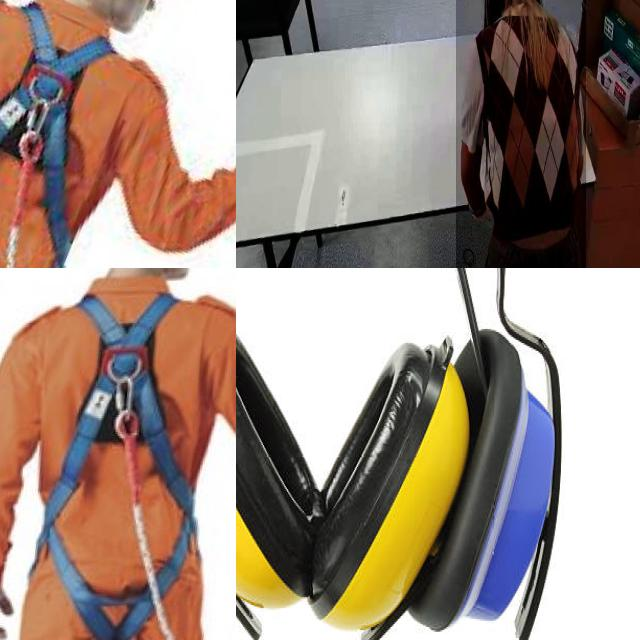Ear-protection: (236, 268, 567, 640), (236, 268, 487, 621)
Harness: (31, 293, 196, 640), (0, 2, 115, 268)
person: (455, 0, 586, 268)
